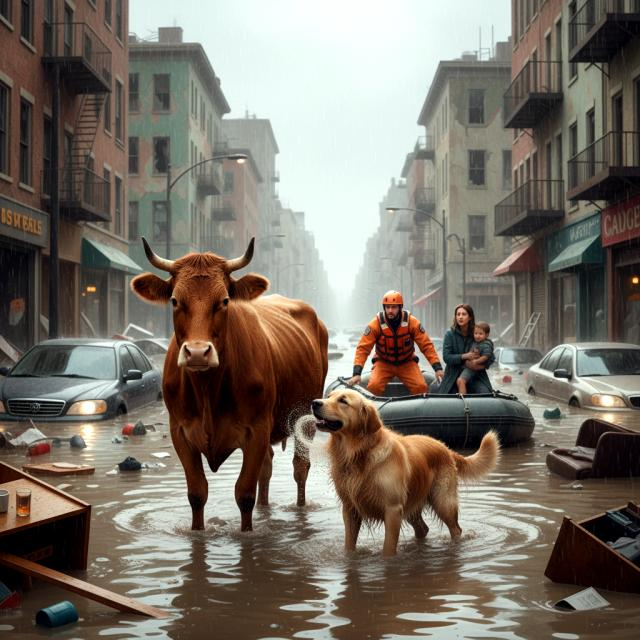civilian: (443, 298, 484, 398), (458, 315, 497, 400)
cow: (124, 237, 330, 551)
dog: (304, 390, 510, 564)
rescuer: (352, 285, 443, 409)
